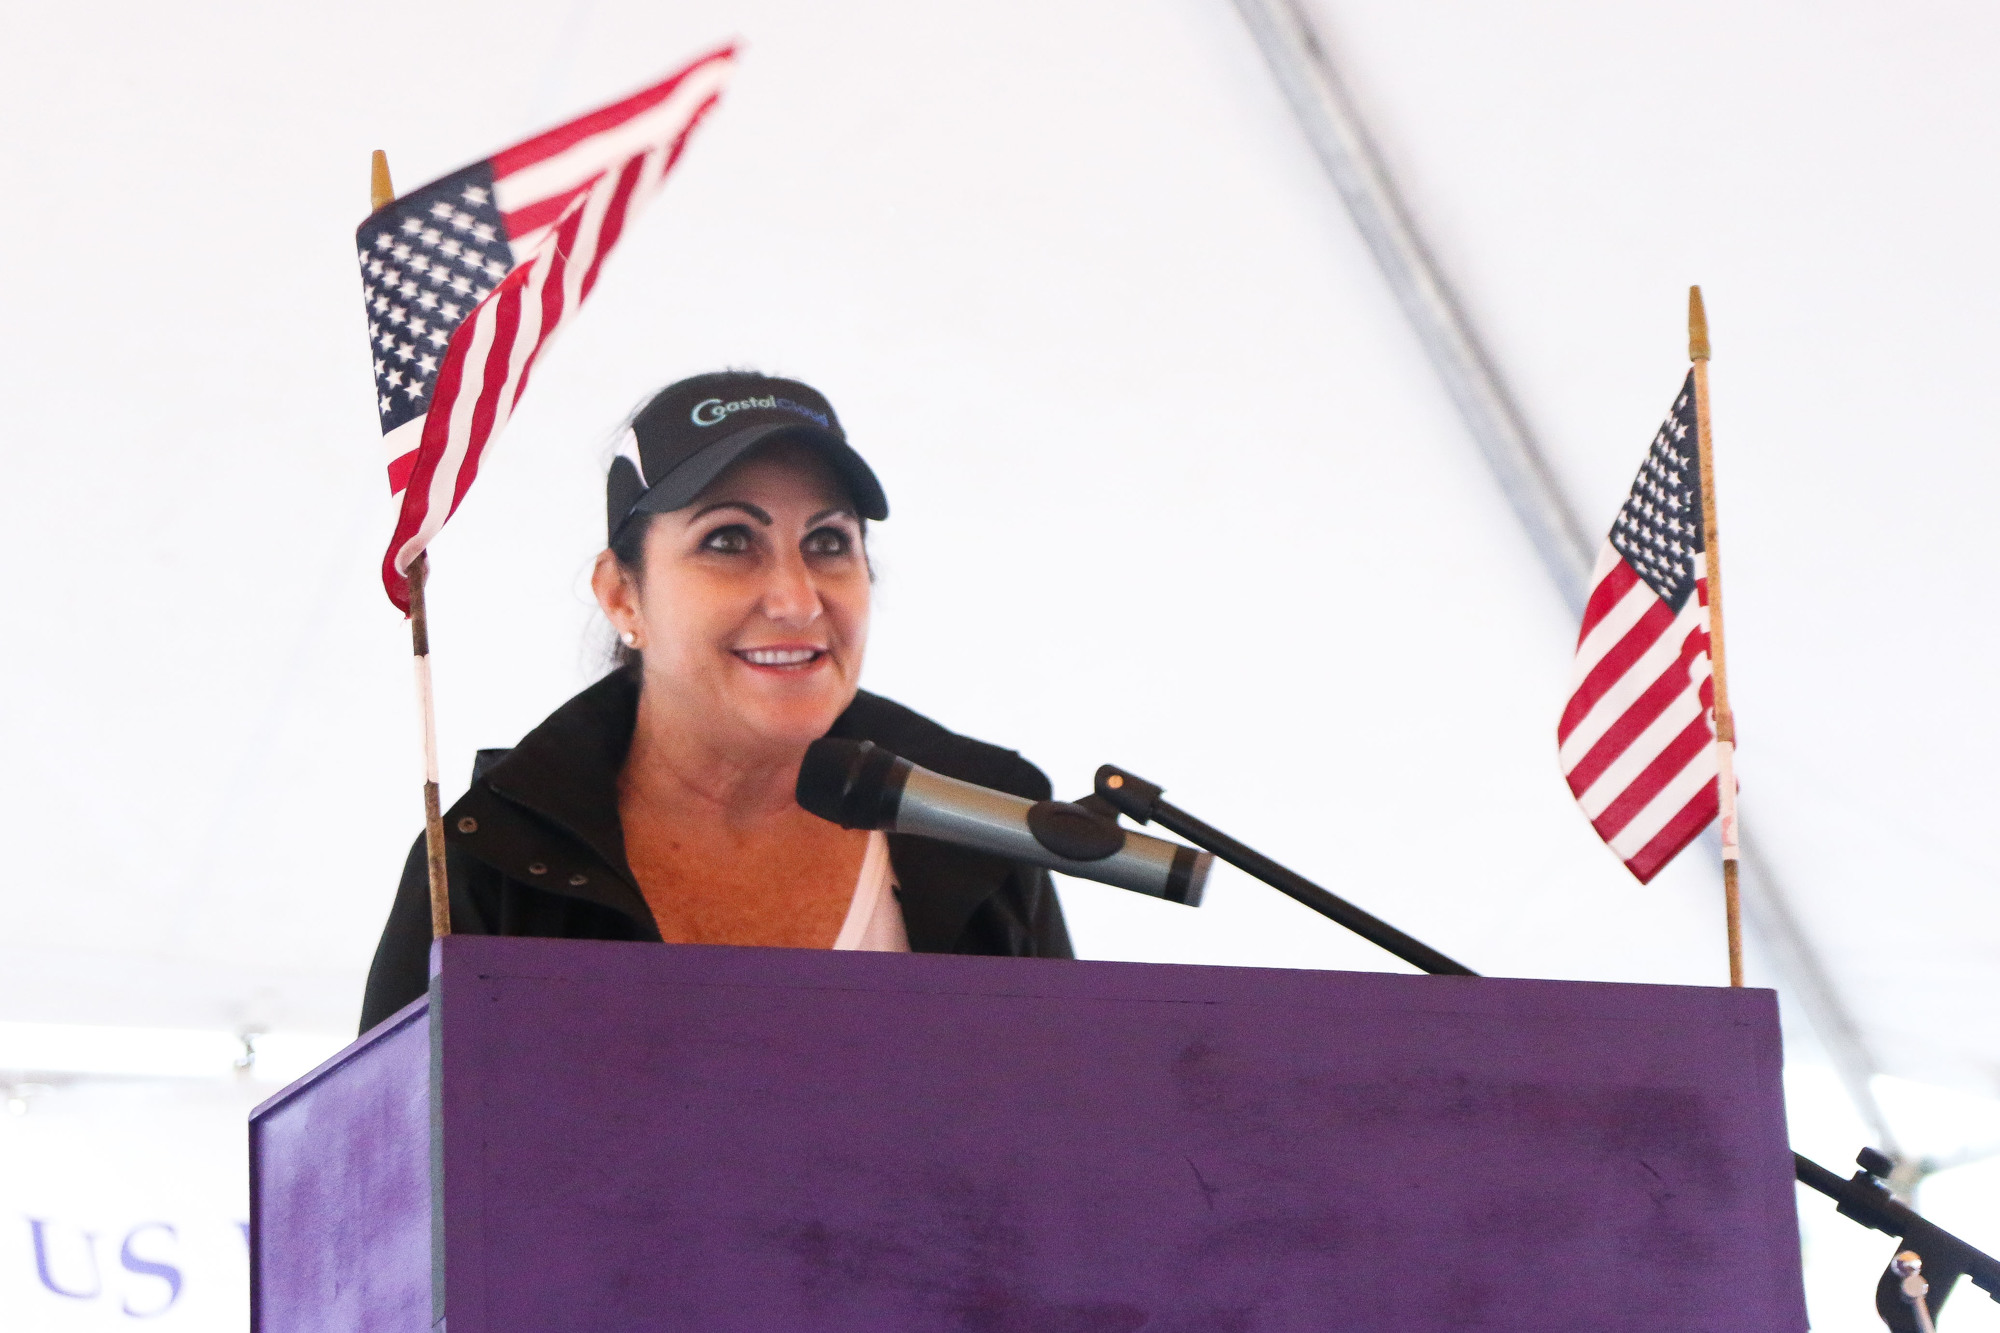America flag: (311, 48, 724, 613), (1546, 359, 1774, 881)
